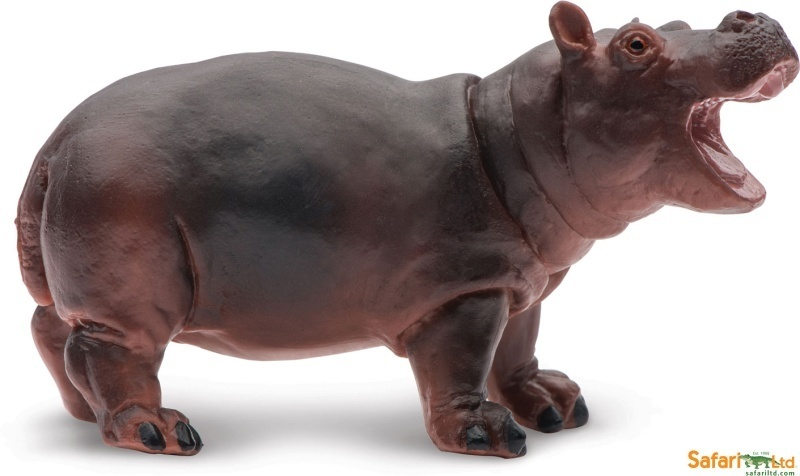hipopotamo: (17, 2, 796, 456)
